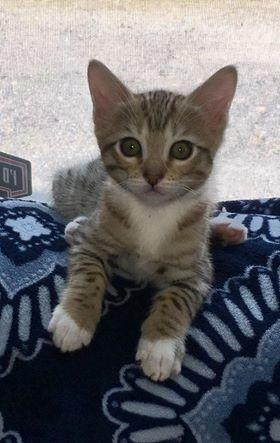bengal: (78, 48, 248, 216)
